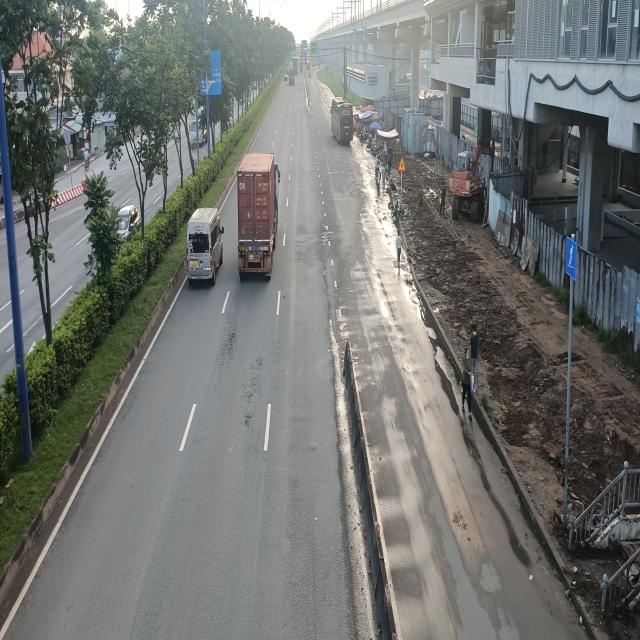coach: (331, 99, 355, 145)
container: (235, 153, 278, 283)
van: (187, 209, 226, 288)
